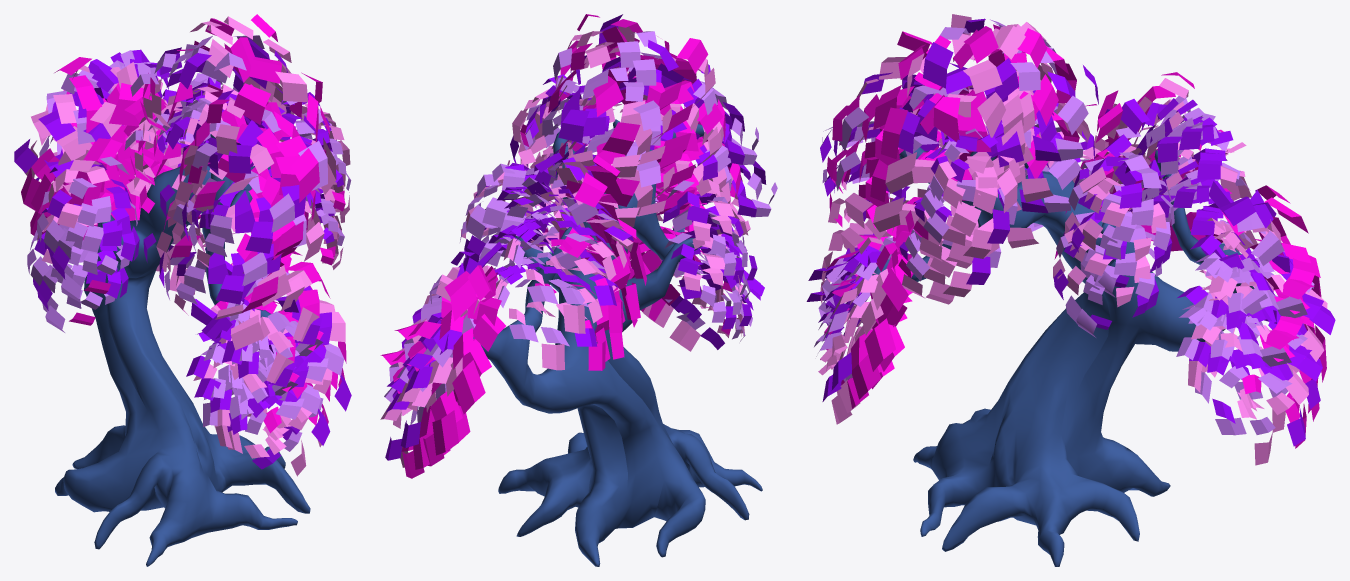
Rendered from Plaza_Tree2.fbx.
3 views of the same model, side by side, from view 1: azimuth 30°, elevation 25°; view 2: azimuth 150°, elevation 25°; view 3: azimuth 270°, elevation 25° (orthographic). The views are drawn at different scales.
Visible parts, largest first — view 1: Plaza_Tree2; view 2: Plaza_Tree2; view 3: Plaza_Tree2.
Part boxes in pixels (bbox=[...]): Plaza_Tree2: bbox=[14, 14, 351, 566]; Plaza_Tree2: bbox=[380, 14, 777, 566]; Plaza_Tree2: bbox=[806, 14, 1335, 566].
Size of the model in its own units: 90.07 by 156 by 146.
